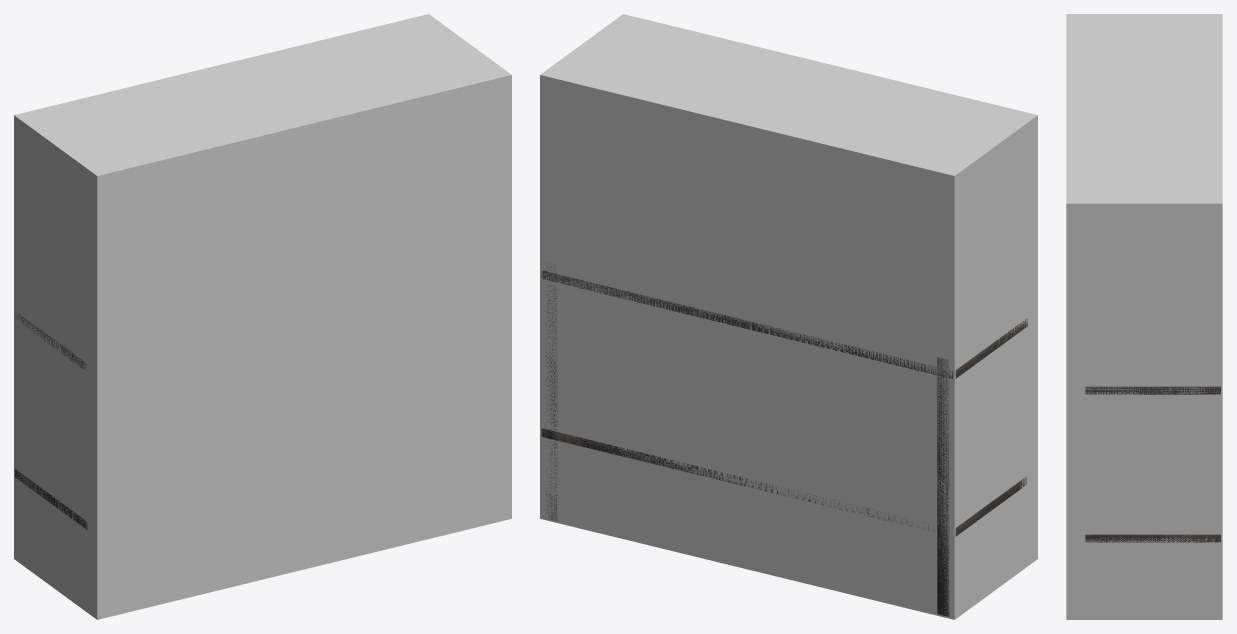
File: pr_plants.gltf
3 views of the same model, side by side, from view 1: azimuth 30°, elevation 25°; view 2: azimuth 150°, elevation 25°; view 3: azimuth 270°, elevation 25° (orthographic). The views are drawn at different scales.
Visible parts, largest first — view 1: pr_plants_COL, pr_plants_LOD0; view 2: pr_plants_COL, pr_plants_LOD0; view 3: pr_plants_COL, pr_plants_LOD0.
Boxes of the visible parts, bbox=[...] form: pr_plants_COL: bbox=[14, 14, 511, 619]; pr_plants_LOD0: bbox=[15, 312, 87, 529]; pr_plants_COL: bbox=[540, 14, 1037, 619]; pr_plants_LOD0: bbox=[541, 264, 1027, 616]; pr_plants_COL: bbox=[1066, 14, 1222, 619]; pr_plants_LOD0: bbox=[1085, 386, 1220, 542].
Size of what is drawn, in the model's own units: 1.1 by 1.13 by 0.3824.
Materials: 1 (1 with a texture image).
